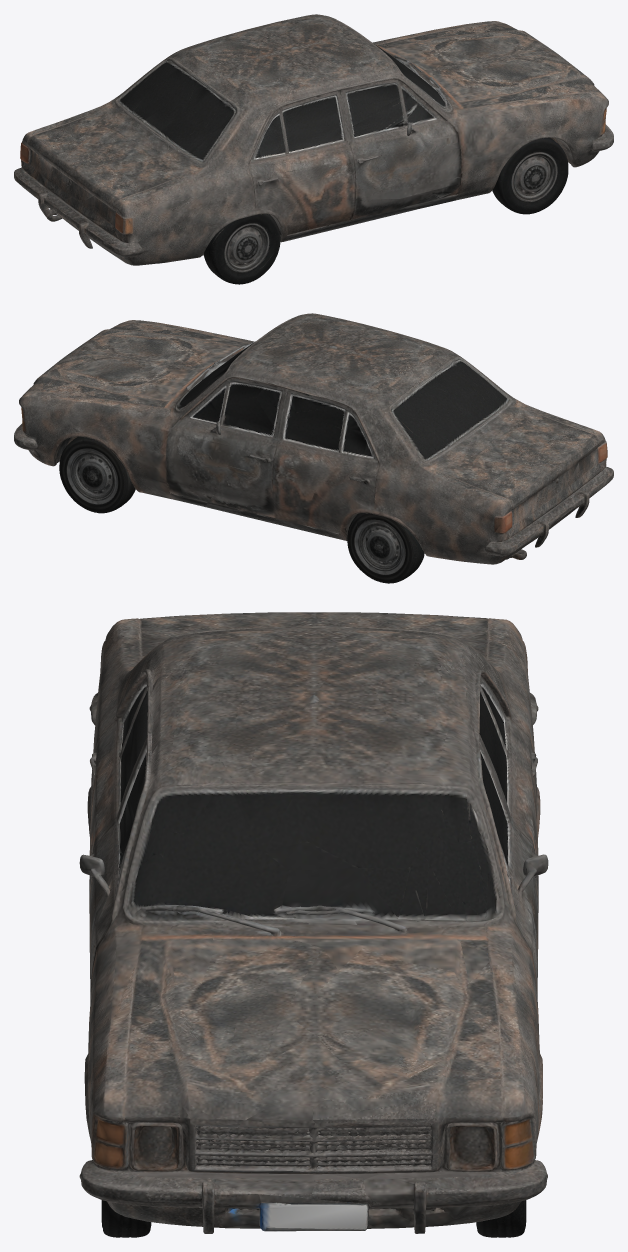
Rendered from gaucho-v8-queimado__01a16dcf.glb.
3 renders of one model, top to bottom at view 1: azimuth 30°, elevation 25°; view 2: azimuth 150°, elevation 25°; view 3: azimuth 270°, elevation 25°, orthographic. The views are drawn at different scales.
Parts seen in each view (by area): view 1: gaucho-v8-queimado; view 2: gaucho-v8-queimado; view 3: gaucho-v8-queimado.
Boxes of the visible parts, x1,y1,x2,y2 form: gaucho-v8-queimado: (14,14,613,284); gaucho-v8-queimado: (14,313,613,583); gaucho-v8-queimado: (79,612,548,1237).
Bounding box in the file's own units: 4.58 × 1.5 × 1.82.
Materials: 1 (1 with a texture image).
